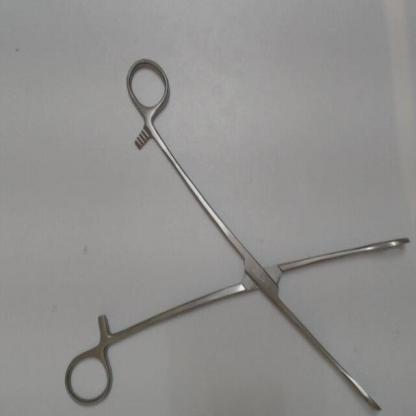Sponge Forceps: (60, 52, 413, 415)
